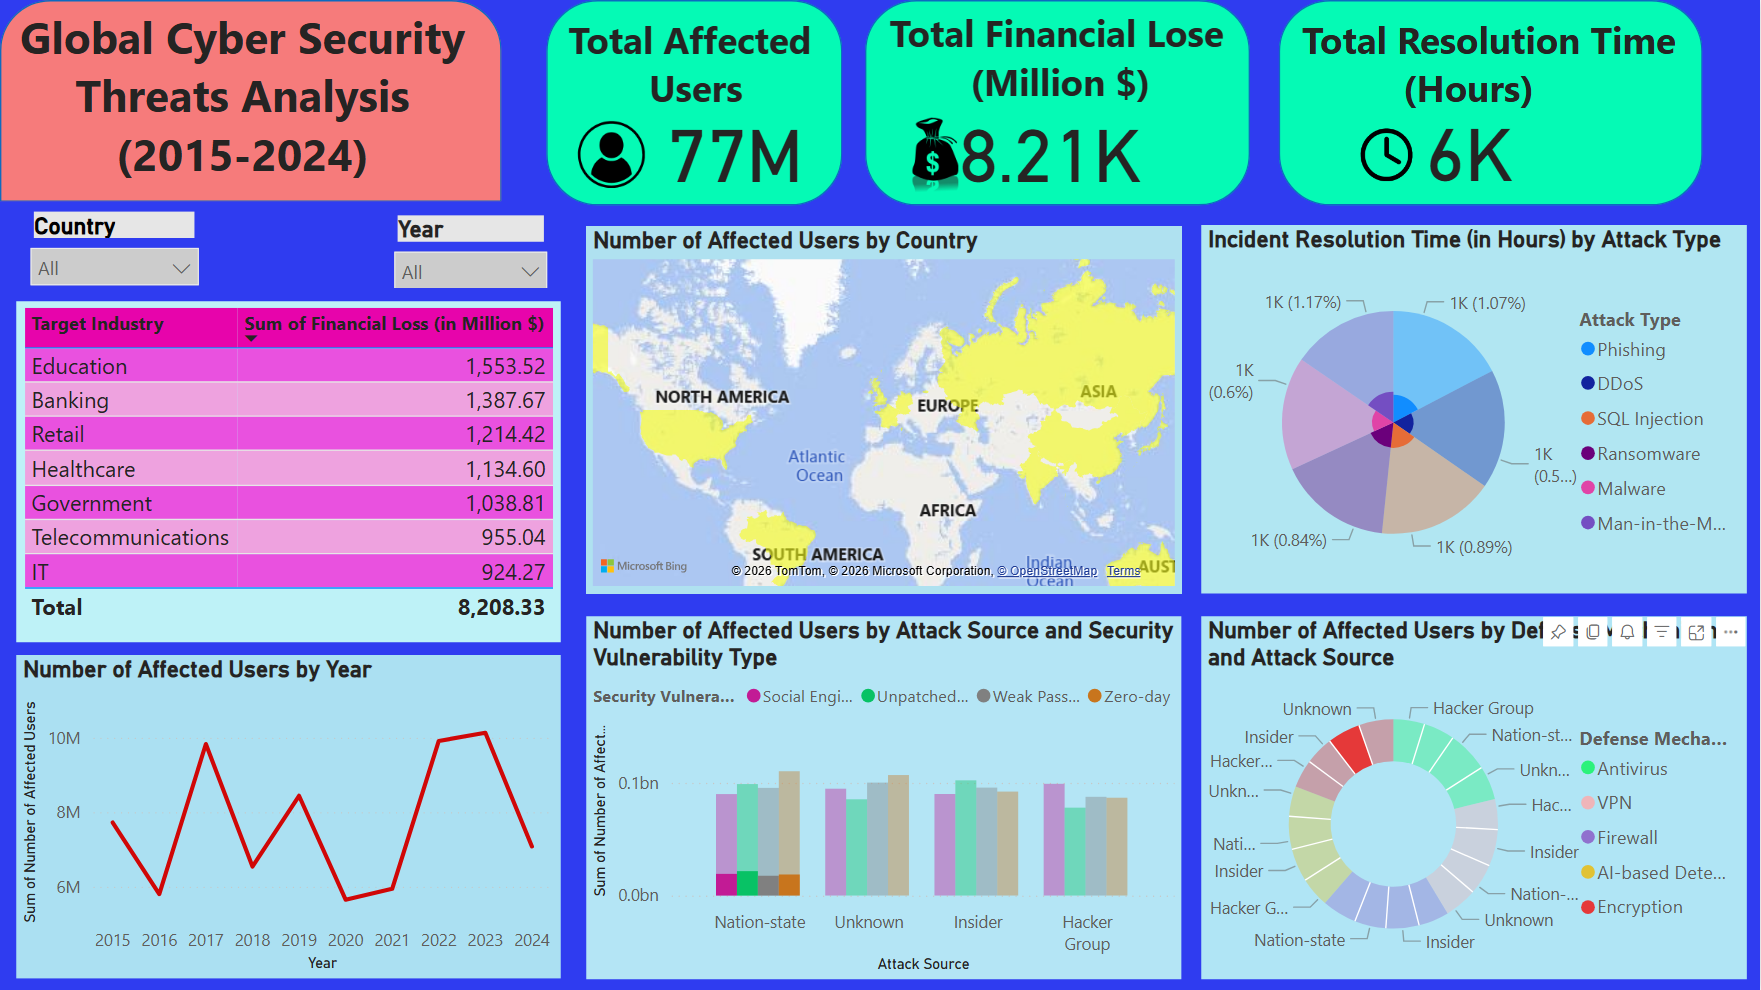

This screenshot's page, from the dashboard's own definition file:
{"tool":"powerbi","page":{"name":"Page 1","canvas":[1280,720],"ordinal":0},"visuals":[{"type":"shape","box":[0,0,364.8,146.7],"z":500},{"type":"shape","box":[930.3,0,308.3,149.4],"z":1000},{"type":"shape","box":[628.7,0,280,149.4],"z":2000},{"type":"shape","box":[397.1,0,215.4,149.4],"z":3000},{"type":"tableEx","fields":{"Values":["Global_Cybersecurity_Threats_2015-2024.Target Industry","Sum(Global_Cybersecurity_Threats_2015-2024.Financial Loss (in Million $))"]},"box":[12.1,219.4,395.8,247.7],"z":4000},{"type":"clusteredColumnChart","title":"Number of Affected Users by Attack Source and Security Vulnerability Type","fields":{"Category":["Global_Cybersecurity_Threats_2015-2024.Attack Source"],"Series":["Global_Cybersecurity_Threats_2015-2024.Security Vulnerability Type"],"Y":["Sum(Global_Cybersecurity_Threats_2015-2024.Number of Affected Users)"]},"box":[426.2,448.6,433.2,264.1],"z":5000},{"type":"pieChart","title":"Incident Resolution Time (in Hours) by Attack Type","fields":{"Y":["Sum(Global_Cybersecurity_Threats_2015-2024.Incident Resolution Time (in Hours))"],"Category":["Global_Cybersecurity_Threats_2015-2024.Attack Type"]},"box":[873.4,163.5,396.9,268.3],"z":6000},{"type":"donutChart","title":"Number of Affected Users by Defense Mechanism and Attack Source","fields":{"Category":["Global_Cybersecurity_Threats_2015-2024.Defense Mechanism Used"],"Series":["Global_Cybersecurity_Threats_2015-2024.Attack Source"],"Y":["Sum(Global_Cybersecurity_Threats_2015-2024.Number of Affected Users)"]},"box":[873.4,448.6,396.9,264.1],"z":7000},{"type":"filledMap","title":"Number of Affected Users by Country","fields":{"Category":["Global_Cybersecurity_Threats_2015-2024.Country"]},"box":[426.2,164.9,433.2,266.9],"z":8000},{"type":"cardVisual","fields":{"Data":["Sum(Global_Cybersecurity_Threats_2015-2024.Number of Affected Users)"]},"box":[467.1,41.7,206,133.3],"z":9000},{"type":"cardVisual","fields":{"Data":["Sum(Global_Cybersecurity_Threats_2015-2024.Financial Loss (in Million $))"]},"box":[679.9,41.7,239.6,134.6],"z":10000},{"type":"textbox","box":[0,0,352.7,140],"z":11000},{"type":"cardVisual","fields":{"Data":["Sum(Global_Cybersecurity_Threats_2015-2024.Incident Resolution Time (in Hours))"]},"box":[1018.7,41.9,234.8,132.8],"z":12000},{"type":"textbox","box":[407.9,5.4,195.2,80.8],"z":13000},{"type":"image","box":[407.9,80.8,72.7,63.3],"z":14000},{"type":"textbox","box":[642.2,1.3,278.7,80.8],"z":15000},{"type":"textbox","box":[941.8,5.6,296.2,85.2],"z":16000},{"type":"image","box":[648.9,79.4,61.9,67.3],"z":17000},{"type":"image","box":[982.4,82.4,51.7,60.1],"z":18000},{"type":"lineChart","title":"Number of Affected Users by Year","fields":{"Y":["Sum(Global_Cybersecurity_Threats_2015-2024.Number of Affected Users)"],"Category":["Global_Cybersecurity_Threats_2015-2024.Year"]},"box":[12.1,476.6,395.8,235.6],"z":19000},{"type":"slicer","fields":{"Values":["Global_Cybersecurity_Threats_2015-2024.Country"]},"box":[12.1,149.4,142.7,60.6],"z":20000},{"type":"slicer","fields":{"Values":["Global_Cybersecurity_Threats_2015-2024.Year"]},"box":[276,152.1,131.9,57.9],"z":20001}]}

Visuals, with their boxes in screenshot pixels (x1, y1, x2, y2), scaled from the page's 1280x720 canvas onto the 1761x990 screenshot:
shape: left=0, top=0, right=502, bottom=202
shape: left=1280, top=0, right=1704, bottom=205
shape: left=865, top=0, right=1250, bottom=205
shape: left=546, top=0, right=843, bottom=205
tableEx - Global_Cybersecurity_Threats_2015-2024.Target Industry x Sum(Global_Cybersecurity_Threats_2015-2024.Financial Loss (in Million $)): left=17, top=302, right=561, bottom=642
"Number of Affected Users by Attack Source and Security Vulnerability Type" clusteredColumnChart: left=586, top=617, right=1182, bottom=980
"Incident Resolution Time (in Hours) by Attack Type" pieChart: left=1202, top=225, right=1748, bottom=594
"Number of Affected Users by Defense Mechanism and Attack Source" donutChart: left=1202, top=617, right=1748, bottom=980
"Number of Affected Users by Country" filledMap: left=586, top=227, right=1182, bottom=594
cardVisual - Sum(Global_Cybersecurity_Threats_2015-2024.Number of Affected Users): left=643, top=57, right=926, bottom=241
cardVisual - Sum(Global_Cybersecurity_Threats_2015-2024.Financial Loss (in Million $)): left=935, top=57, right=1265, bottom=242
textbox: left=0, top=0, right=485, bottom=192
cardVisual - Sum(Global_Cybersecurity_Threats_2015-2024.Incident Resolution Time (in Hours)): left=1402, top=58, right=1725, bottom=240
textbox: left=561, top=7, right=830, bottom=119
image: left=561, top=111, right=661, bottom=198
textbox: left=884, top=2, right=1267, bottom=113
textbox: left=1296, top=8, right=1703, bottom=125
image: left=893, top=109, right=978, bottom=202
image: left=1352, top=113, right=1423, bottom=196
"Number of Affected Users by Year" lineChart: left=17, top=655, right=561, bottom=979
slicer - Global_Cybersecurity_Threats_2015-2024.Country: left=17, top=205, right=213, bottom=289
slicer - Global_Cybersecurity_Threats_2015-2024.Year: left=380, top=209, right=561, bottom=289
